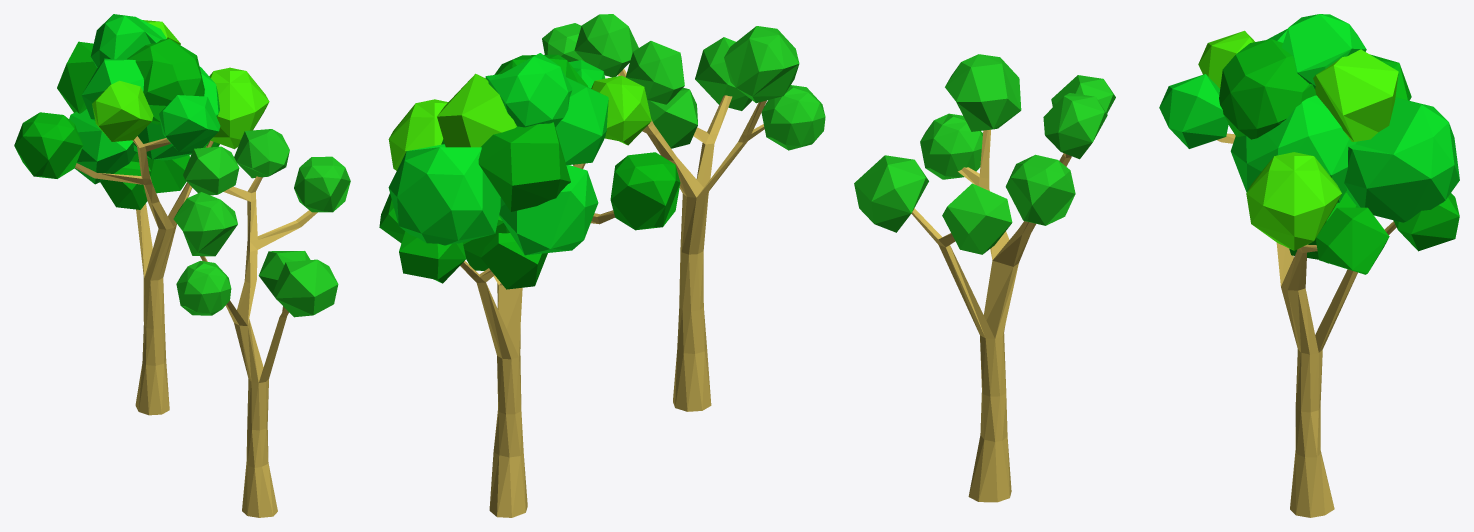
The model's file is Cartoon low poly tree.FBX.
3 views of the same model, side by side, from view 1: azimuth 30°, elevation 25°; view 2: azimuth 150°, elevation 25°; view 3: azimuth 270°, elevation 25° (orthographic). The views are drawn at different scales.
Parts seen in each view (by area): view 1: Cartoon treetop 2 (×2), Cartoon tree trunk 2, Cartoon tree trunk 1; view 2: Cartoon treetop 2 (×2), Cartoon tree trunk 2, Cartoon tree trunk 1; view 3: Cartoon treetop 2 (×2), Cartoon tree trunk 2, Cartoon tree trunk 1.
Boxes of the visible parts, x1,y1,x2,y2 form: Cartoon treetop 2 (×2): (14,14,350,317); Cartoon tree trunk 2: (200,176,317,517); Cartoon tree trunk 1: (75,136,213,415); Cartoon treetop 2 (×2): (379,14,825,289); Cartoon tree trunk 2: (618,69,766,411); Cartoon tree trunk 1: (460,163,614,517); Cartoon treetop 2 (×2): (854,14,1459,274); Cartoon tree trunk 2: (911,129,1071,502); Cartoon tree trunk 1: (1217,133,1396,517).
Bounding box in the file's own units: 44.2 × 69.04 × 78.91.
